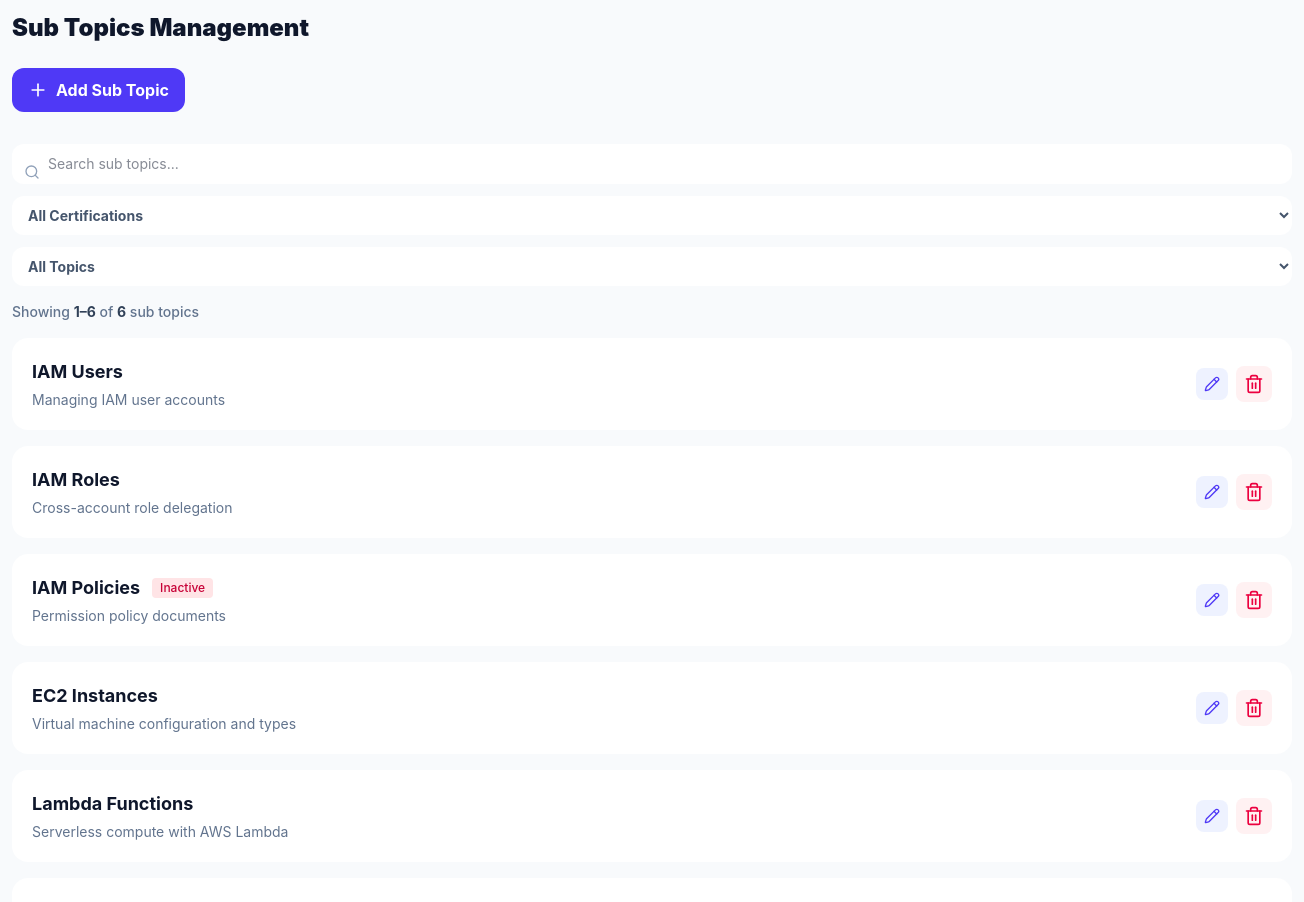
Context building with search terms › passes empty context when search term matches no subtopics
Expected: the heading "IAM Users" is shown, [32, 358, 123, 386]
Type "nonexistentterm12345" into the field with placeholder "Search sub topics..." at (652, 164), box [12, 144, 1292, 184]
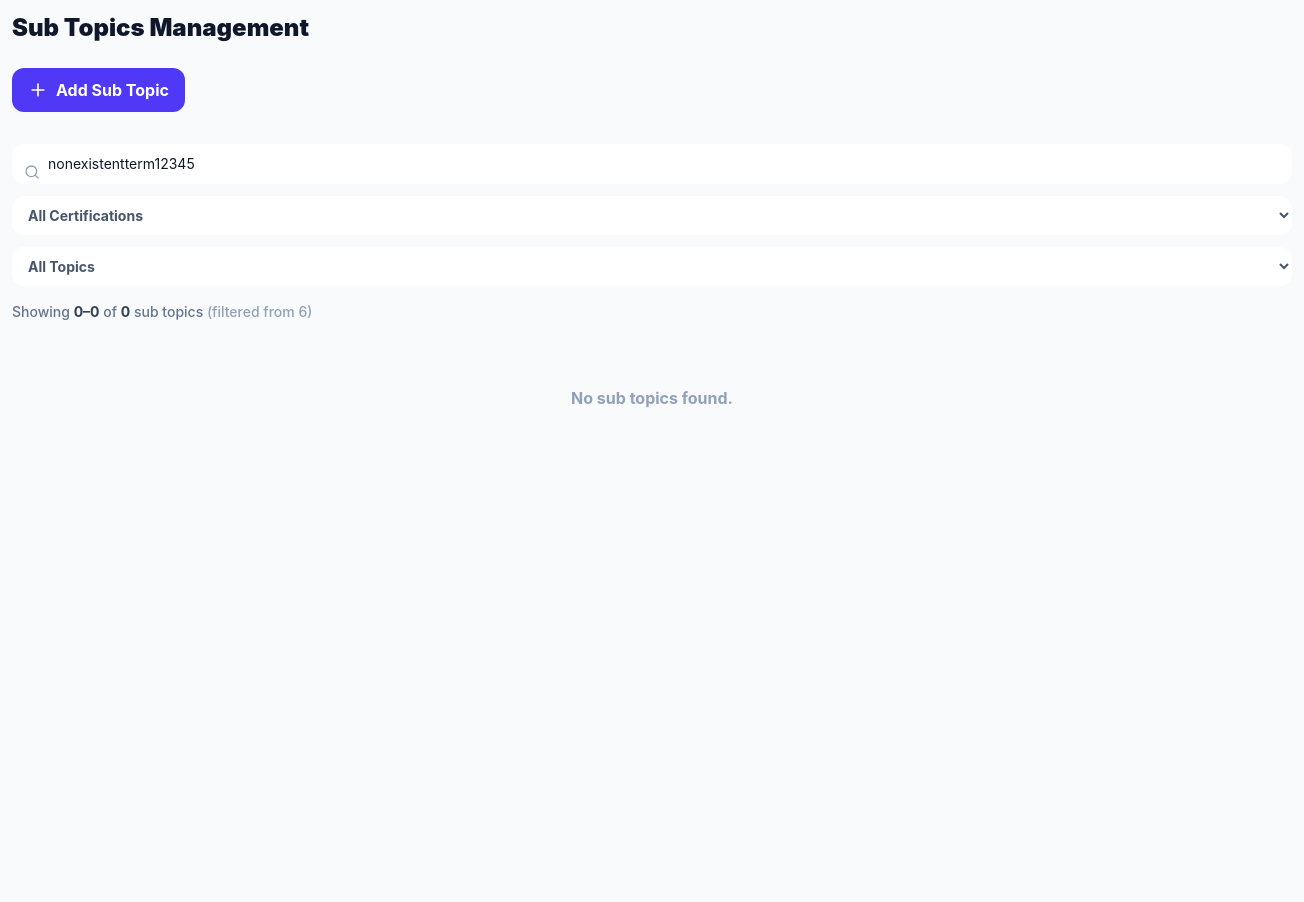
Expected: the text "No sub topics found." is shown, [571, 388, 733, 408]
